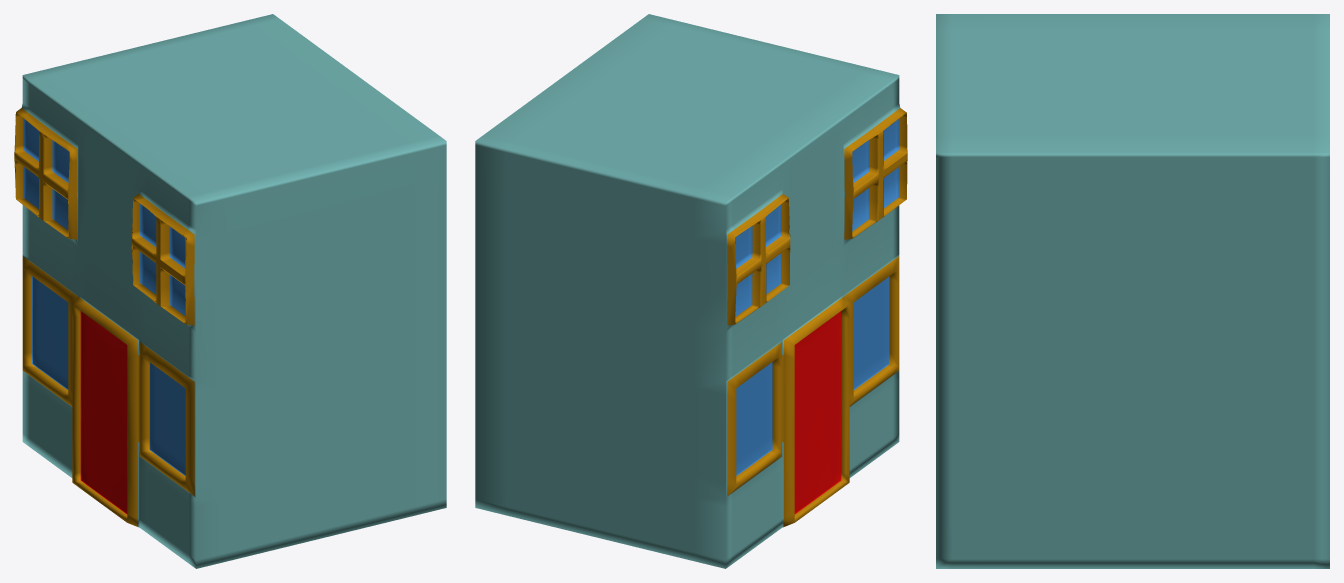
Rendered from ngoiCanban.fbx.
The picture shows the model from 3 angles, left to right: view 1: azimuth 30°, elevation 25°; view 2: azimuth 150°, elevation 25°; view 3: azimuth 270°, elevation 25°; orthographic projection. The views are drawn at different scales.
Parts seen in each view (by area): view 1: pCube1; view 2: pCube1; view 3: pCube1.
Boxes of the visible parts, box(x1,y1,x2,y2) form: pCube1: box(14, 14, 446, 568); pCube1: box(475, 14, 907, 568); pCube1: box(936, 14, 1329, 568).
Bounding box in the file's own units: 5.2 × 7 × 6.
